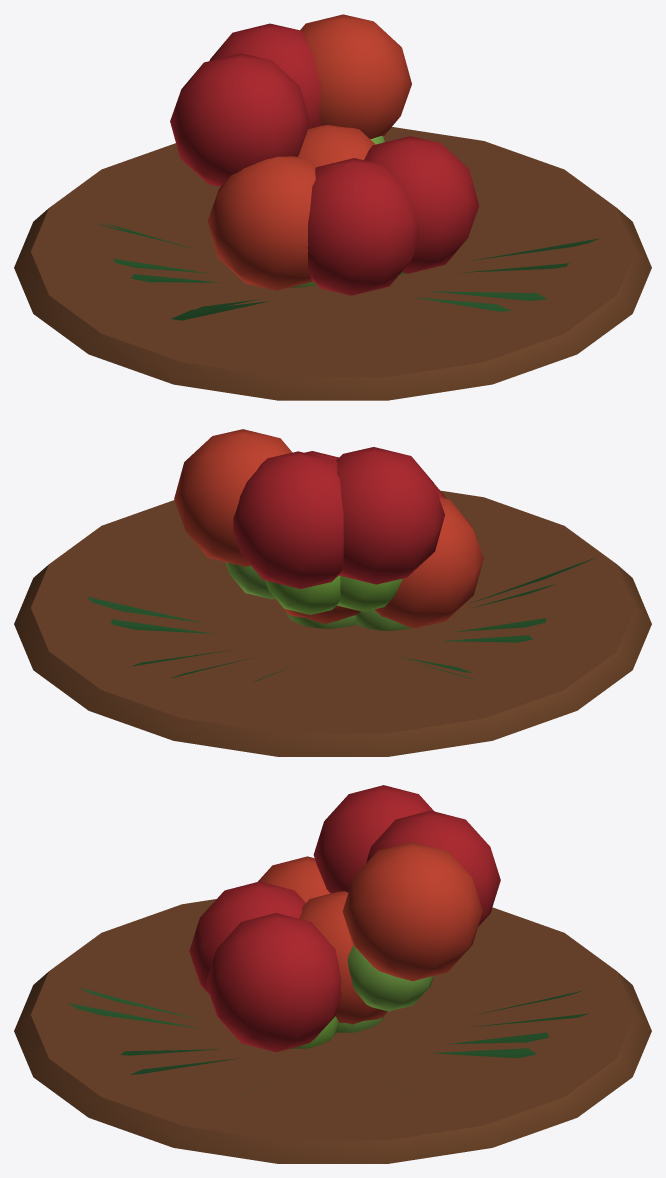
File: coffee.glb
The picture shows the model from 3 angles, top to bottom: view 1: azimuth 30°, elevation 25°; view 2: azimuth 150°, elevation 25°; view 3: azimuth 270°, elevation 25°; orthographic projection.
Parts seen in each view (by area): view 1: crop-coffee-giant-2, crop-coffee-giant; view 2: crop-coffee-giant-2, crop-coffee-giant; view 3: crop-coffee-giant-2, crop-coffee-giant.
Part boxes in pixels (bbox=[...]): crop-coffee-giant-2: bbox=[14, 127, 651, 400]; crop-coffee-giant: bbox=[106, 14, 599, 320]; crop-coffee-giant-2: bbox=[14, 490, 651, 756]; crop-coffee-giant: bbox=[87, 429, 598, 678]; crop-coffee-giant-2: bbox=[14, 899, 651, 1163]; crop-coffee-giant: bbox=[68, 785, 583, 1096].
Bounding box in the file's own units: 5.61 × 2.14 × 5.7.
